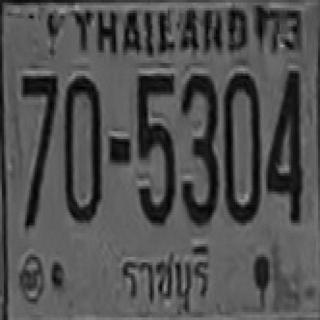N00: (223, 71, 259, 223), (64, 75, 100, 222)
N03: (179, 74, 218, 223)
N04: (265, 68, 302, 220)
N05: (135, 74, 174, 223)
N07: (20, 73, 57, 215), (20, 74, 57, 170), (20, 73, 57, 163)
P52: (113, 242, 215, 312)
